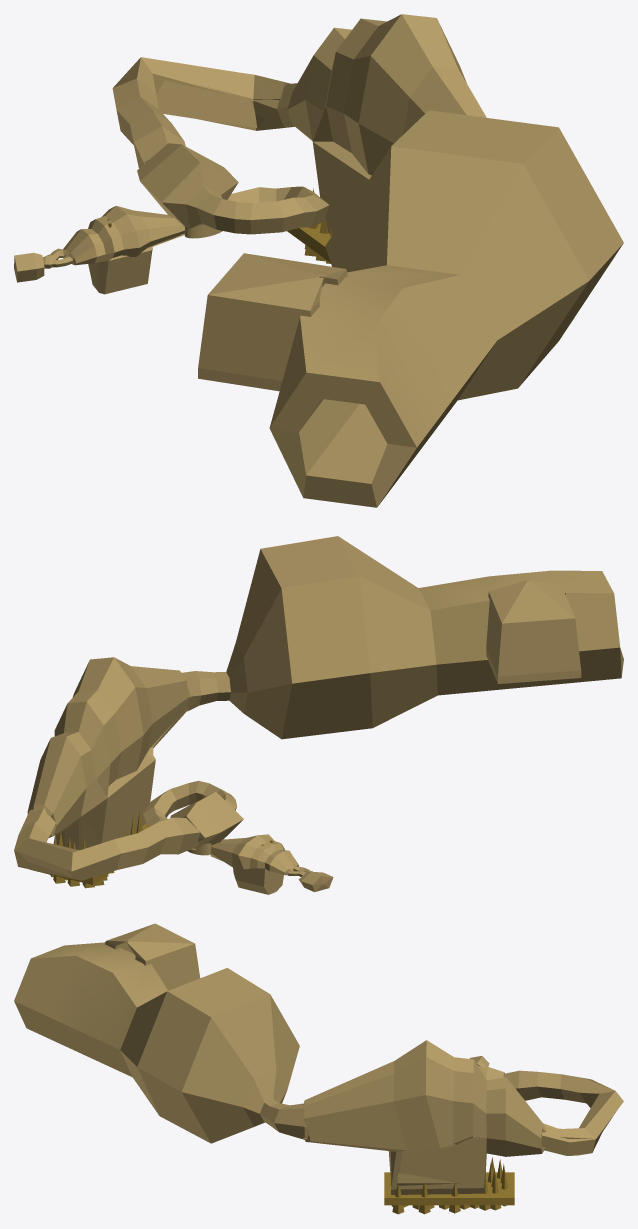
Rendered from cave.fbx.
The picture shows the model from 3 angles, top to bottom: view 1: azimuth 30°, elevation 25°; view 2: azimuth 150°, elevation 25°; view 3: azimuth 270°, elevation 25°; orthographic projection. The views are drawn at different scales.
Parts seen in each view (by area): view 1: pTorus6, FirstCave1, pCube1, pTorus5, pTorus4, FirstCave, Spikes, pTorus3; view 2: pTorus6, FirstCave1, pCube1, pTorus5, pTorus4, FirstCave, Spikes, pTorus3; view 3: pTorus6, FirstCave1, pTorus5, pCube1, Spikes.
Boxes of the visible parts, box(x1,y1,x2,y2) form: pTorus6: box(269, 110, 623, 507); FirstCave1: box(287, 14, 486, 233); pCube1: box(198, 253, 347, 391); pTorus5: box(112, 57, 297, 168); pTorus4: box(137, 143, 329, 234); FirstCave: box(63, 205, 185, 294); Spikes: box(287, 188, 332, 263); pTorus3: box(14, 252, 44, 282); pTorus6: box(181, 536, 623, 739); FirstCave1: box(27, 657, 189, 849); pCube1: box(486, 579, 581, 683); pTorus5: box(14, 808, 199, 880); pTorus4: box(143, 780, 243, 850); FirstCave: box(210, 834, 299, 894); Spikes: box(30, 811, 167, 888); pTorus3: box(298, 871, 333, 891); pTorus6: box(14, 942, 308, 1143); FirstCave1: box(302, 1040, 546, 1194); pTorus5: box(503, 1070, 623, 1155); pCube1: box(105, 923, 200, 990); Spikes: box(384, 1157, 514, 1214).
Size of the model in its own units: 2982 by 1790 by 5436.
